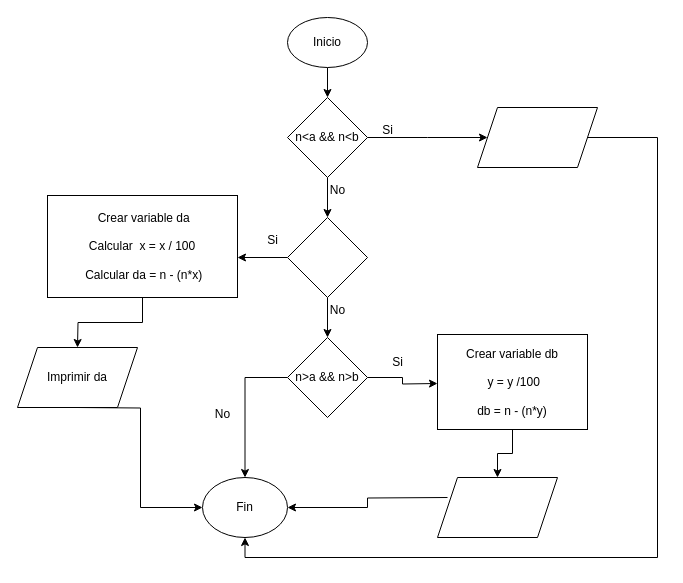
Image size: 683x583. Some labels were removed from this diagram. The centre of each missing label's shape, as x and y in pixels:
"Imprimir db" belongs at pixel 497 507.
"Imprimir n" belongs at pixel 537 137.
"n>a && n<b" belongs at pixel 327 257.
